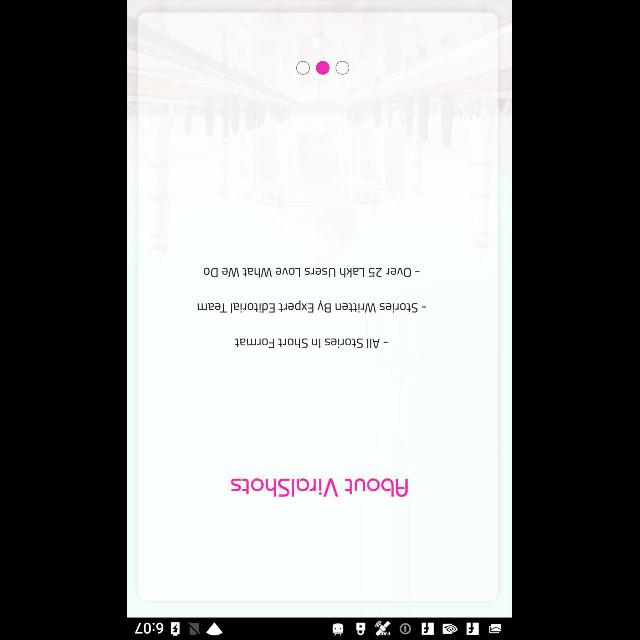pageindicator: (296, 61, 349, 75)
text: (232, 478, 408, 497), (198, 300, 428, 314), (204, 268, 420, 278), (235, 338, 388, 348)
uppertaskbar: (128, 617, 512, 639)
